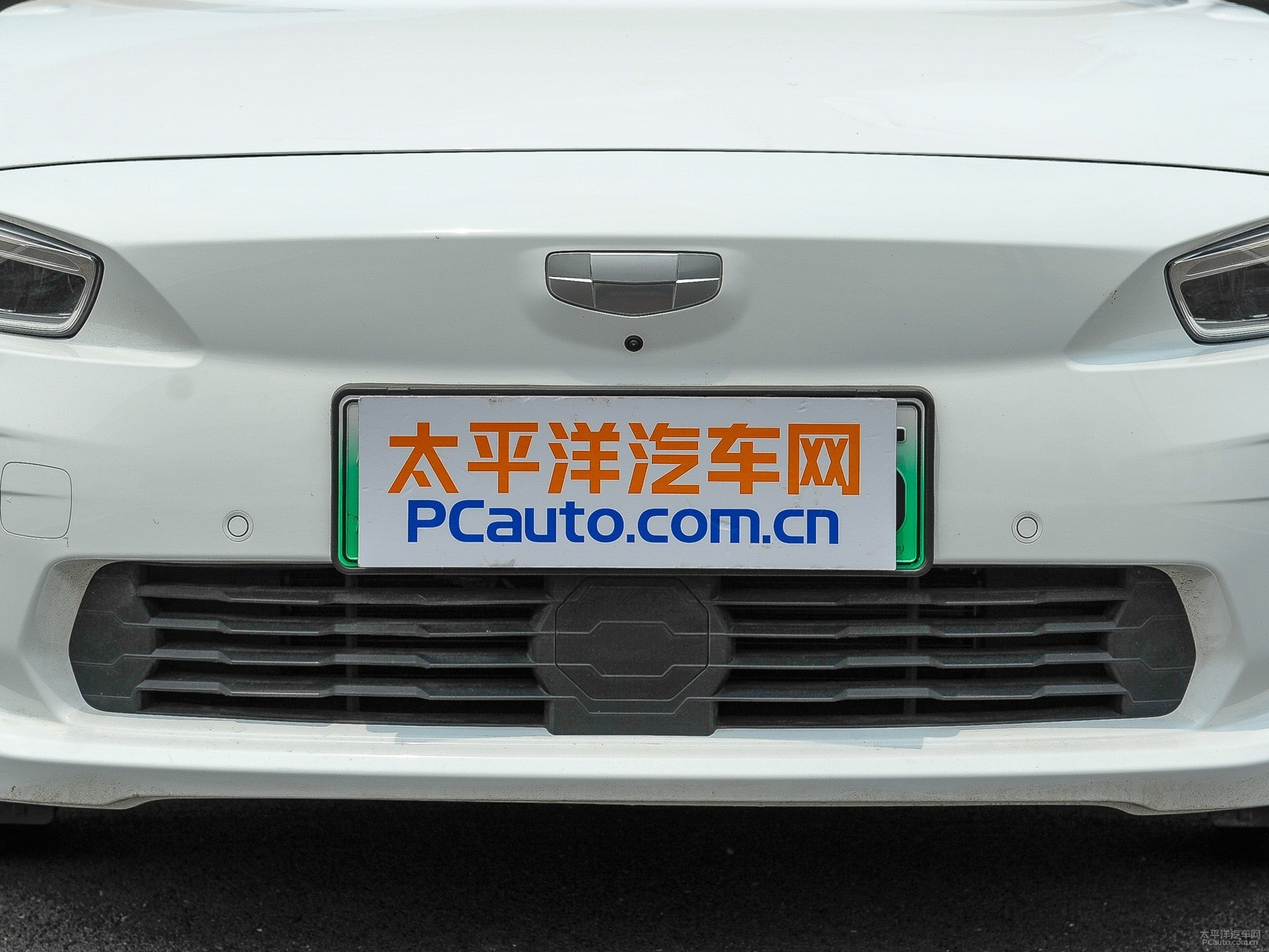GEOMETRY: (547, 254, 722, 314)
